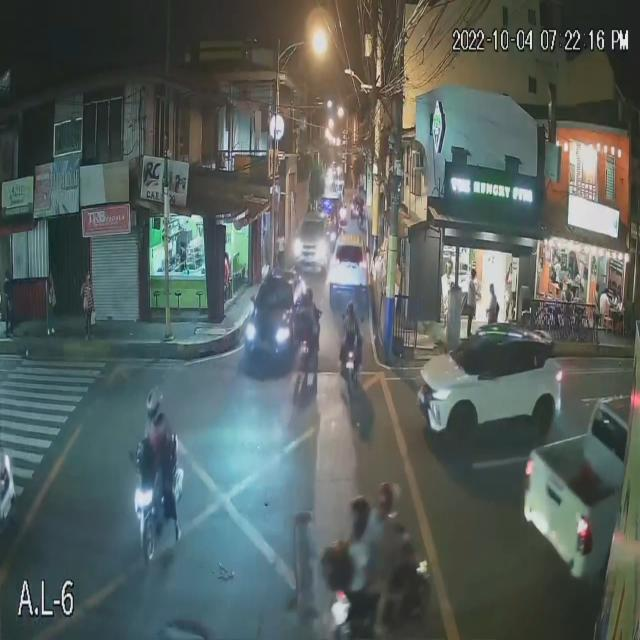Full-Faced: (348, 488, 371, 536), (144, 384, 166, 416), (343, 300, 358, 328), (304, 288, 318, 307)
Half-Faced: (376, 476, 401, 516)
